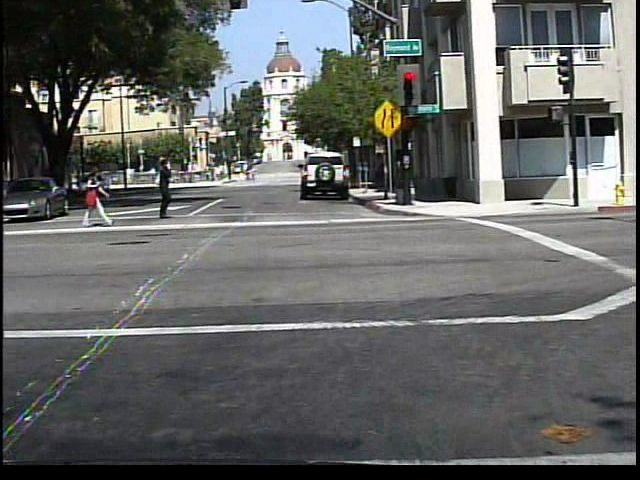person: (142, 158, 180, 222), (75, 162, 110, 230), (241, 167, 250, 185), (249, 167, 256, 185)
